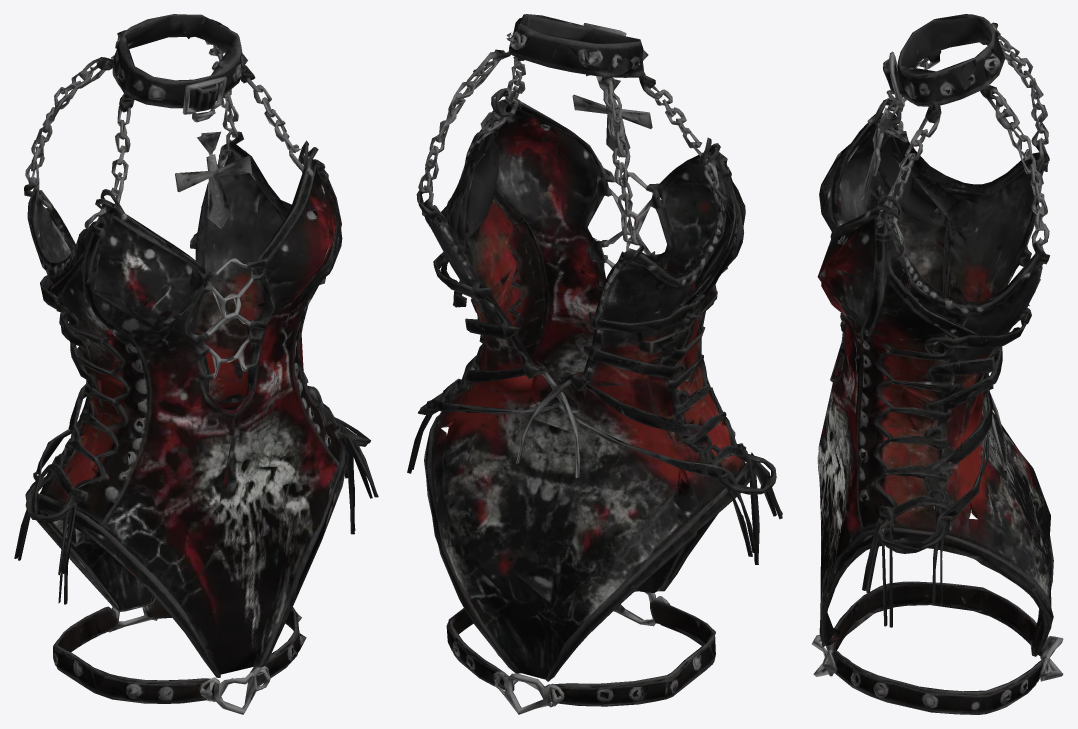
The model's file is corset.glb.
The picture shows the model from 3 angles, left to right: view 1: azimuth 30°, elevation 25°; view 2: azimuth 150°, elevation 25°; view 3: azimuth 270°, elevation 25°; orthographic projection. The views are drawn at different scales.
Parts seen in each view (by area): view 1: world; view 2: world; view 3: world.
Boxes of the visible parts, <box> form: world: <box>14,14,378,714</box>; world: <box>407,14,782,714</box>; world: <box>811,14,1063,714</box>.
Bounding box in the file's own units: 0.5531 × 0.9976 × 0.3542.
Materials: 1 (1 with a texture image).
